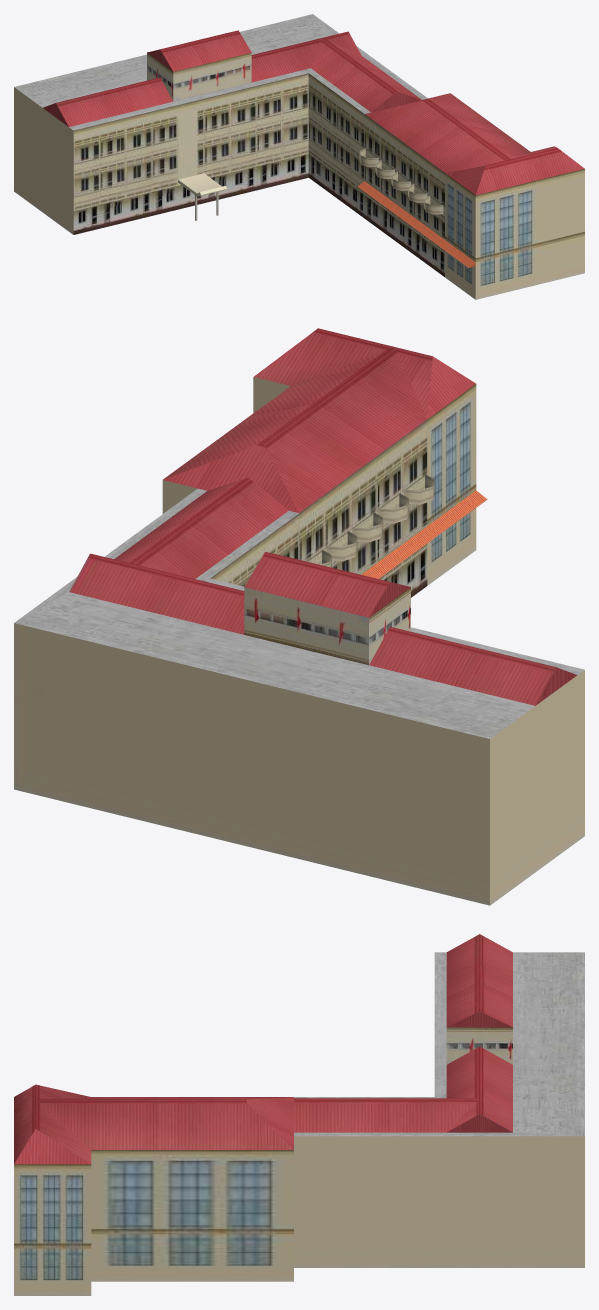
The picture shows the model from 3 angles, top to bottom: view 1: azimuth 30°, elevation 25°; view 2: azimuth 150°, elevation 25°; view 3: azimuth 270°, elevation 25°; orthographic projection. The views are drawn at different scales.
Visible parts, largest first — view 1: HN1147___Quan_Uy_Cau_Giay; view 2: HN1147___Quan_Uy_Cau_Giay; view 3: HN1147___Quan_Uy_Cau_Giay.
Part boxes in pixels (x1,y1,x2,y2): HN1147___Quan_Uy_Cau_Giay: [14, 14, 584, 299]; HN1147___Quan_Uy_Cau_Giay: [14, 328, 584, 905]; HN1147___Quan_Uy_Cau_Giay: [14, 934, 584, 1295].
Bounding box in the file's own units: 48.28 × 19.69 × 55.
Materials: 1 (1 with a texture image).
